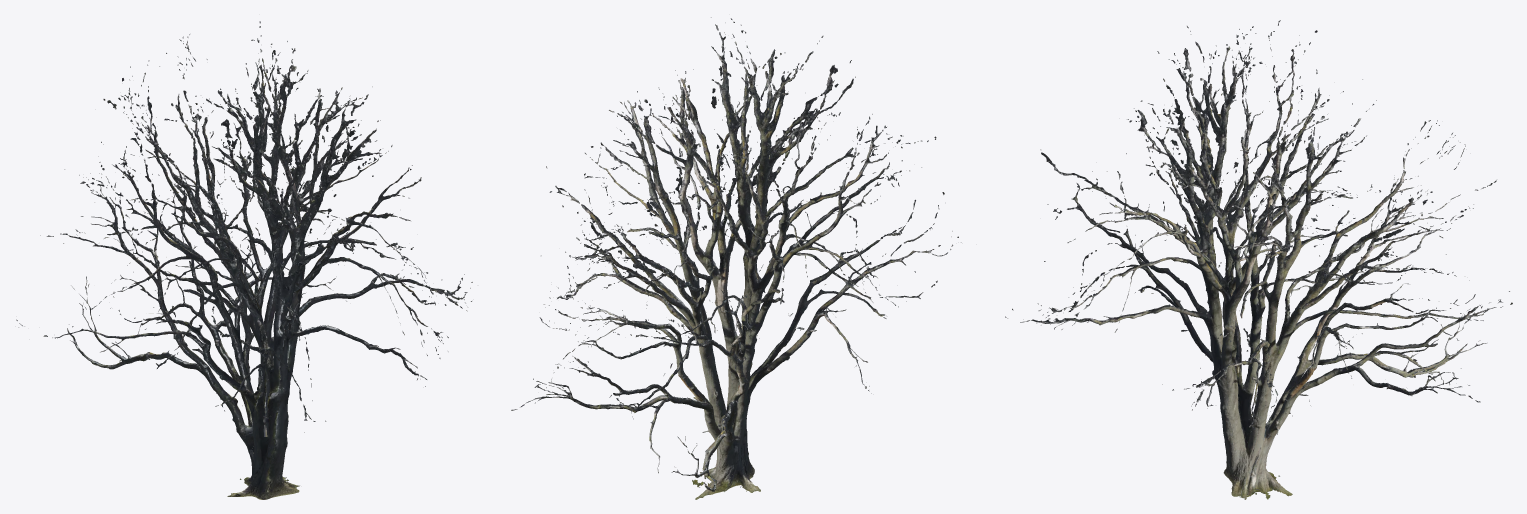
File: tree-transformed.glb
The picture shows the model from 3 angles, left to right: view 1: azimuth 30°, elevation 25°; view 2: azimuth 150°, elevation 25°; view 3: azimuth 270°, elevation 25°; orthographic projection. The views are drawn at different scales.
Visible parts, largest first — view 1: Object_2, Object_3, Object_4; view 2: Object_2, Object_3, Object_4; view 3: Object_3, Object_2, Object_4.
Boxes of the visible parts, x1=… form: Object_2: x1=98, y1=34, x2=472, y2=499; Object_3: x1=16, y1=21, x2=448, y2=492; Object_4: x1=67, y1=38, x2=421, y2=486; Object_2: x1=511, y1=45, x2=850, y2=492; Object_3: x1=671, y1=17, x2=961, y2=497; Object_4: x1=640, y1=69, x2=723, y2=499; Object_3: x1=1005, y1=20, x2=1451, y2=499; Object_2: x1=1070, y1=52, x2=1512, y2=496; Object_4: x1=1143, y1=76, x2=1486, y2=499.
Size of the model in its own units: 2.76 by 3.14 by 3.09.
Materials: 1 (1 with a texture image).
